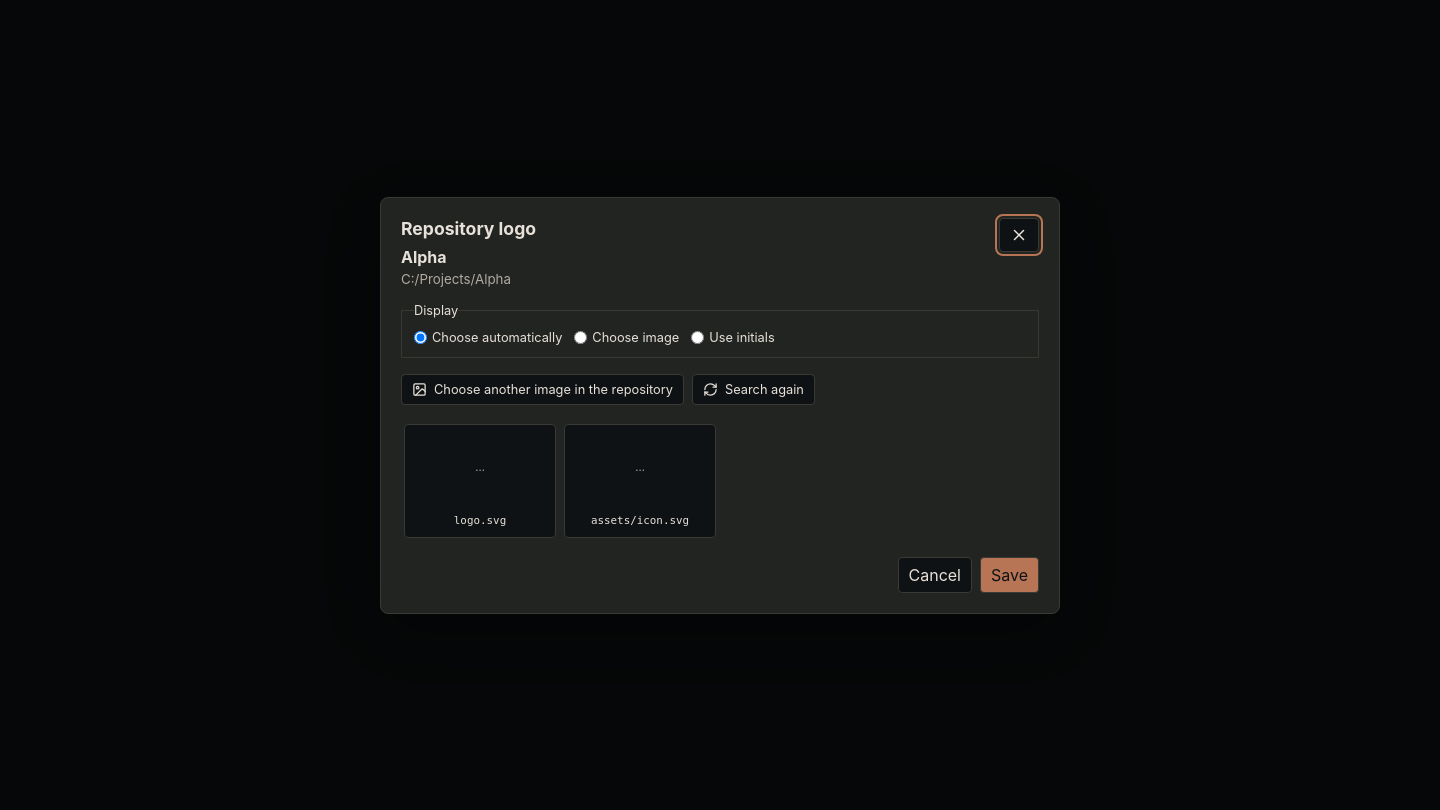
Test: shared repository logos and selection › rescan is explicit and does not save the dialog draft; reload failures are explained
Step 1. Click the button "Search again" → (754, 389), box [692,374,815,404]
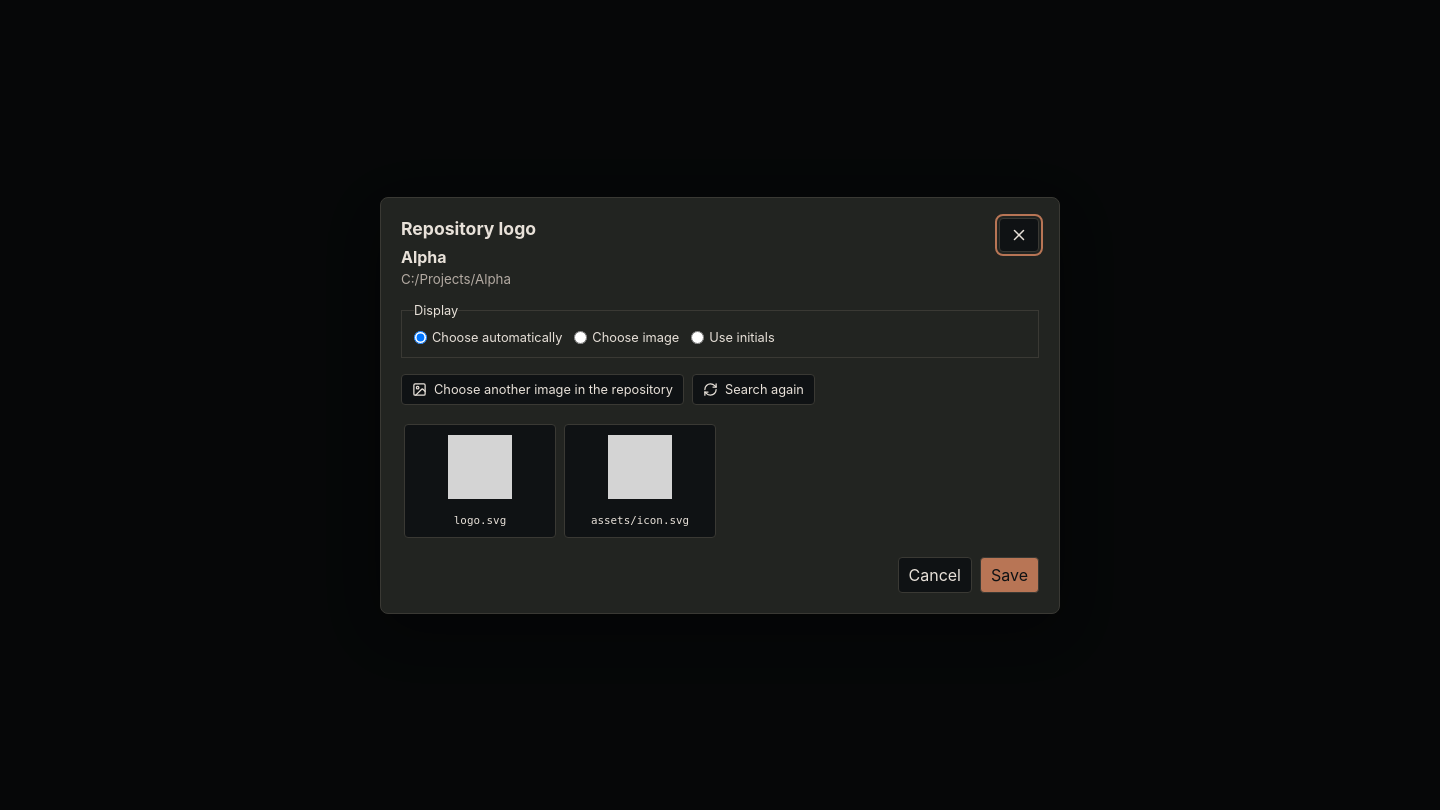
Step 2. Click the button "Search again" → (754, 389), box [692,374,815,404]
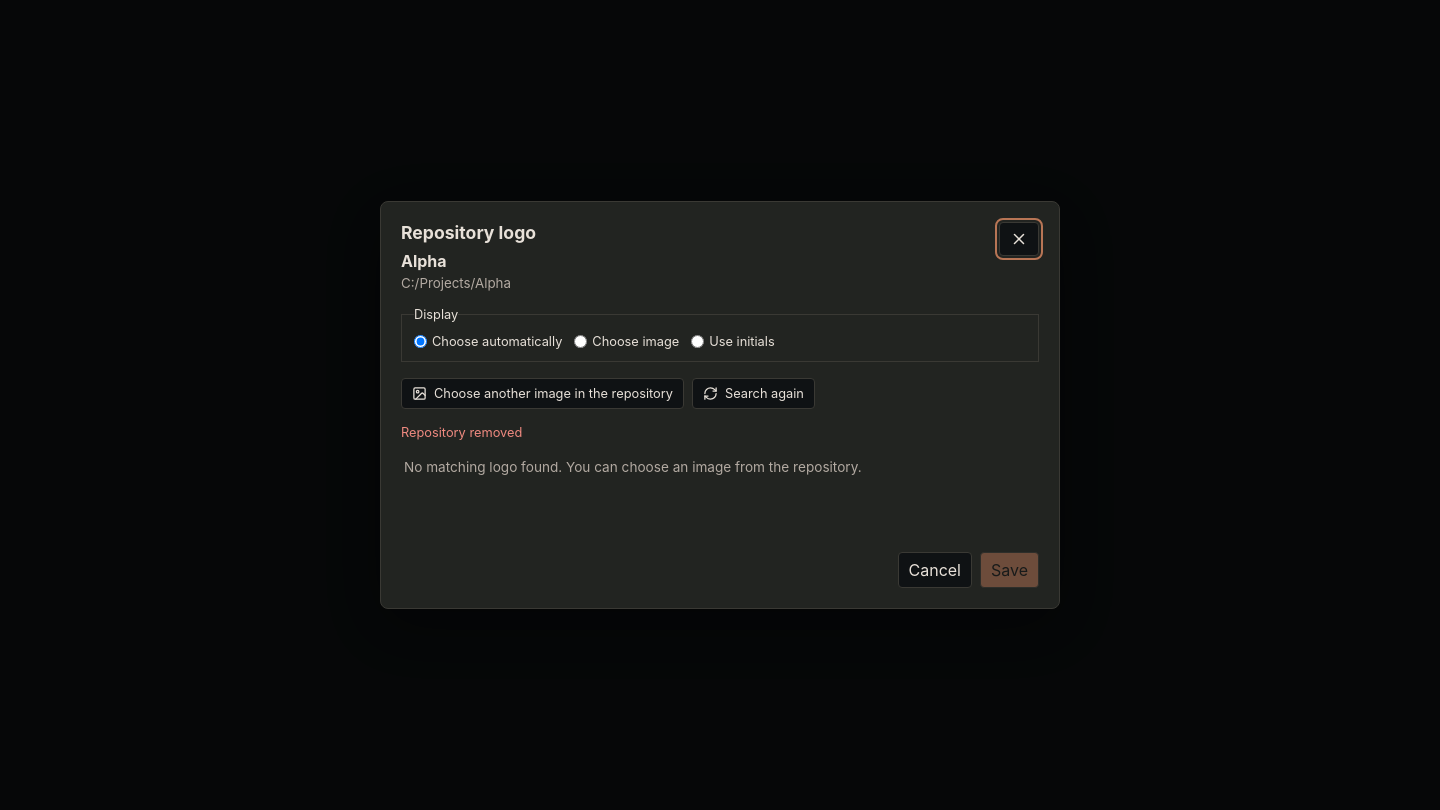
Result: the message "Repository removed" is shown at [401,425,522,440]
